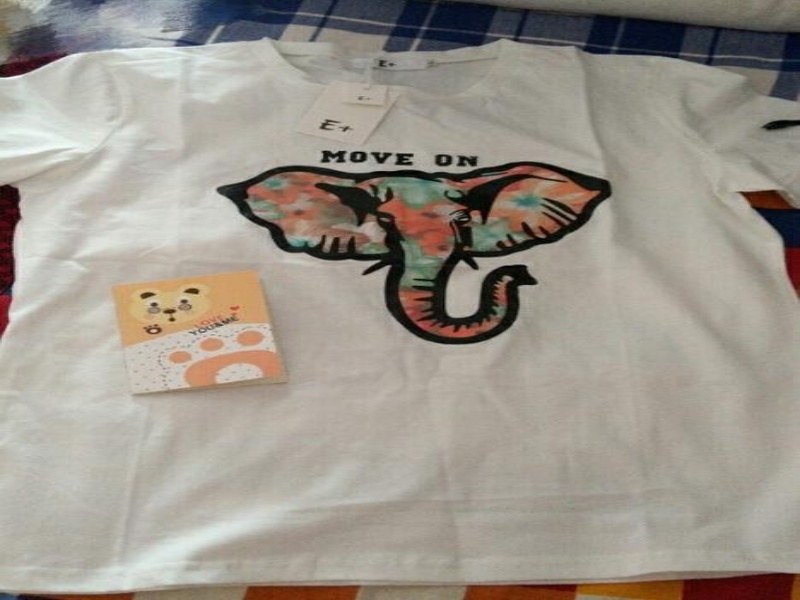short_sleeved_shirt: (0, 33, 798, 599)
